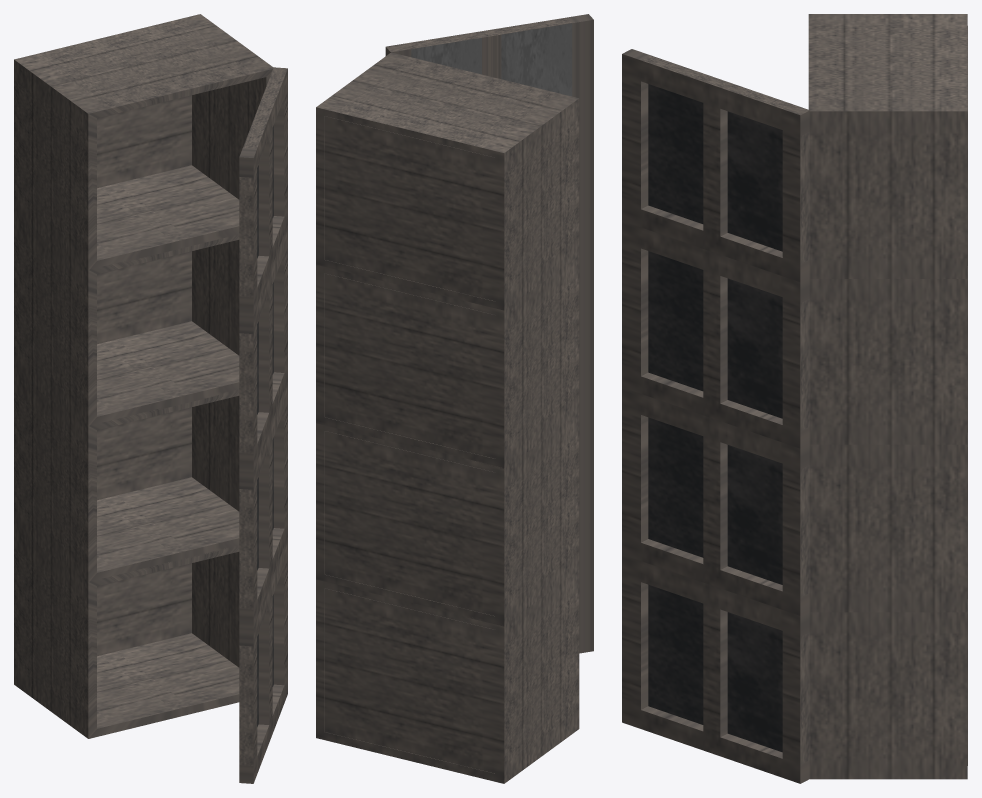
The model's file is locker.fbx.
3 renders of one model, left to right at view 1: azimuth 30°, elevation 25°; view 2: azimuth 150°, elevation 25°; view 3: azimuth 270°, elevation 25°, orthographic. The views are drawn at different scales.
Parts seen in each view (by area): view 1: STORAGE/LOCKER; view 2: STORAGE/LOCKER; view 3: STORAGE/LOCKER.
Boxes of the visible parts, x1=… form: STORAGE/LOCKER: x1=14, y1=14, x2=287, y2=783; STORAGE/LOCKER: x1=316, y1=14, x2=593, y2=783; STORAGE/LOCKER: x1=622, y1=14, x2=967, y2=783.
Size of the model in its own units: 222 by 680 by 319.
1 material, 1 textured.
